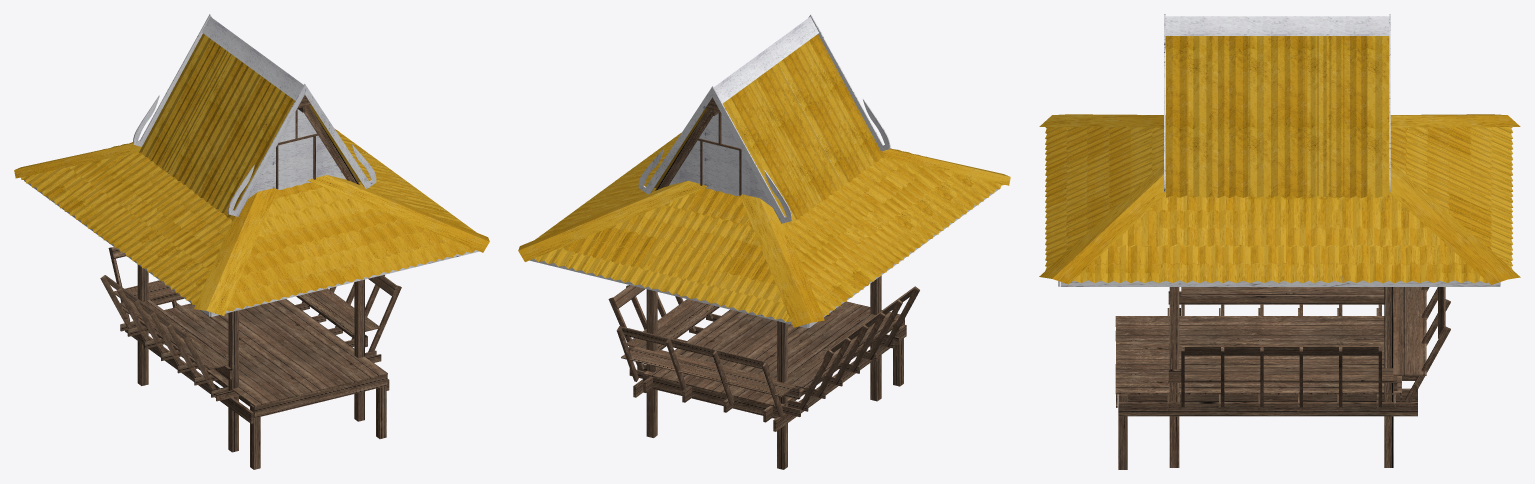
3 renders of one model, left to right at view 1: azimuth 30°, elevation 25°; view 2: azimuth 150°, elevation 25°; view 3: azimuth 270°, elevation 25°, orthographic. The views are drawn at different scales.
Visible parts, largest first — view 1: object 119, object 118, object 114, object 17, Line024, object 18, Line029, object 74, object 16, object 46, object 200, object 216 (+58 smaller); view 2: object 119, object 114, object 118, object 16, Line024, object 15, Line029, object 17, object 166, object 150, object 152, object 158 (+56 smaller); view 3: object 116, object 115, object 117, Line029, object 67, object 15, object 18, object 229, Box046, object 68, object 66, object 85 (+70 smaller).
Part boxes in pixels (x1=…): object 119: x1=194, y1=74, x2=294, y2=220; object 118: x1=156, y1=47, x2=258, y2=192; object 114: x1=139, y1=33, x2=241, y2=180; object 17: x1=194, y1=188, x2=277, y2=315; Line024: x1=248, y1=109, x2=346, y2=198; object 18: x1=308, y1=175, x2=489, y2=252; Line029: x1=202, y1=16, x2=303, y2=100; object 74: x1=254, y1=374, x2=387, y2=417; object 16: x1=14, y1=143, x2=141, y2=178; object 46: x1=228, y1=310, x2=238, y2=452; object 200: x1=285, y1=230, x2=367, y2=262; object 216: x1=275, y1=216, x2=357, y2=248; object 119: x1=778, y1=34, x2=883, y2=185; object 114: x1=723, y1=76, x2=825, y2=228; object 118: x1=741, y1=63, x2=843, y2=215; object 16: x1=739, y1=194, x2=824, y2=327; Line024: x1=669, y1=77, x2=838, y2=207; object 15: x1=518, y1=181, x2=707, y2=261; Line029: x1=713, y1=16, x2=818, y2=103; object 17: x1=881, y1=149, x2=1010, y2=185; object 166: x1=666, y1=208, x2=750, y2=242; object 150: x1=646, y1=238, x2=730, y2=272; object 152: x1=657, y1=223, x2=741, y2=257; object 158: x1=576, y1=255, x2=660, y2=289; object 116: x1=1166, y1=36, x2=1256, y2=197; object 115: x1=1298, y1=36, x2=1389, y2=198; object 117: x1=1257, y1=36, x2=1348, y2=198; Line029: x1=1165, y1=16, x2=1389, y2=35; object 67: x1=1118, y1=402, x2=1417, y2=416; object 15: x1=1389, y1=160, x2=1520, y2=284; object 18: x1=1039, y1=161, x2=1166, y2=284; object 229: x1=1060, y1=277, x2=1499, y2=286; Box046: x1=1181, y1=345, x2=1381, y2=355; object 68: x1=1127, y1=388, x2=1417, y2=401; object 66: x1=1115, y1=388, x2=1401, y2=394; object 85: x1=1168, y1=291, x2=1384, y2=304.
Bounding box in the file's own units: 3.42 × 3.93 × 4.08.
Materials: 4 (4 with a texture image).
